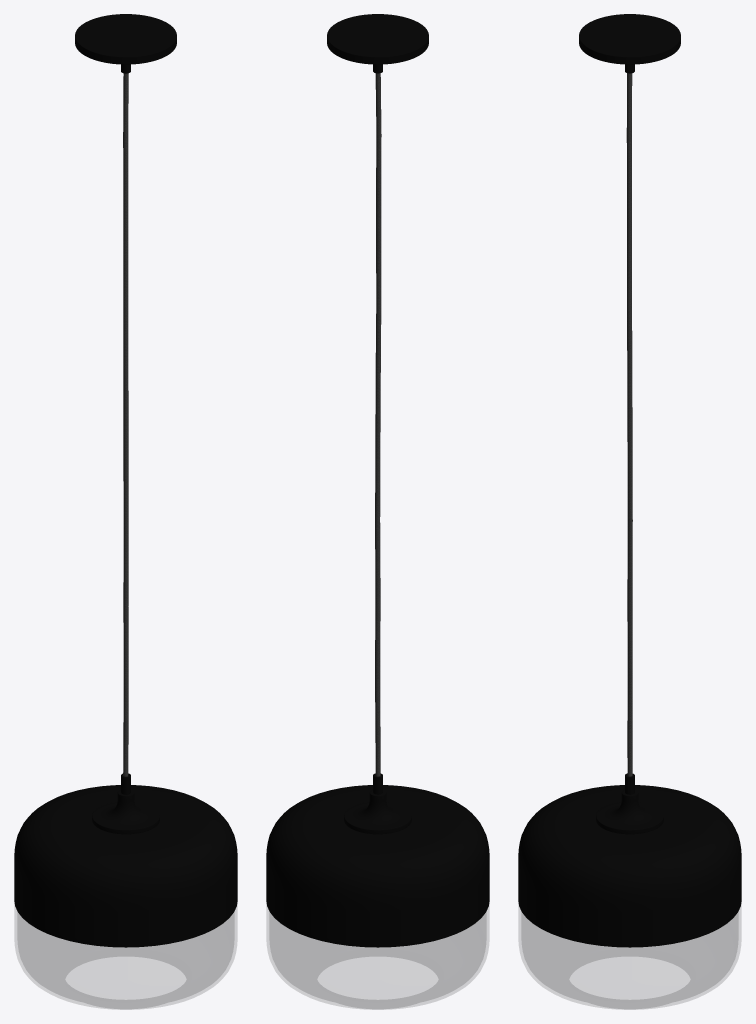
Rendered from cgaxis_models_114_19_fbx_black_hanging_lamp.fbx.
3 views of the same model, side by side, from view 1: azimuth 30°, elevation 25°; view 2: azimuth 150°, elevation 25°; view 3: azimuth 270°, elevation 25° (orthographic).
Visible parts, largest first — view 1: cgaxis_models_114_19_01, cgaxis_models_114_19_05, cgaxis_models_114_19_02; view 2: cgaxis_models_114_19_01, cgaxis_models_114_19_05, cgaxis_models_114_19_02; view 3: cgaxis_models_114_19_01, cgaxis_models_114_19_05, cgaxis_models_114_19_02.
Part boxes in pixels (x1=…): cgaxis_models_114_19_01: x1=14, y1=14, x2=237, y2=947; cgaxis_models_114_19_05: x1=15, y1=908, x2=236, y2=1009; cgaxis_models_114_19_02: x1=123, y1=73, x2=128, y2=776; cgaxis_models_114_19_01: x1=266, y1=14, x2=489, y2=947; cgaxis_models_114_19_05: x1=267, y1=908, x2=488, y2=1009; cgaxis_models_114_19_02: x1=375, y1=73, x2=381, y2=776; cgaxis_models_114_19_01: x1=518, y1=14, x2=741, y2=947; cgaxis_models_114_19_05: x1=519, y1=908, x2=740, y2=1009; cgaxis_models_114_19_02: x1=626, y1=73, x2=632, y2=776.
Bounding box in the file's own units: 10.34 × 48.33 × 10.34.
6 materials, 1 textured.
